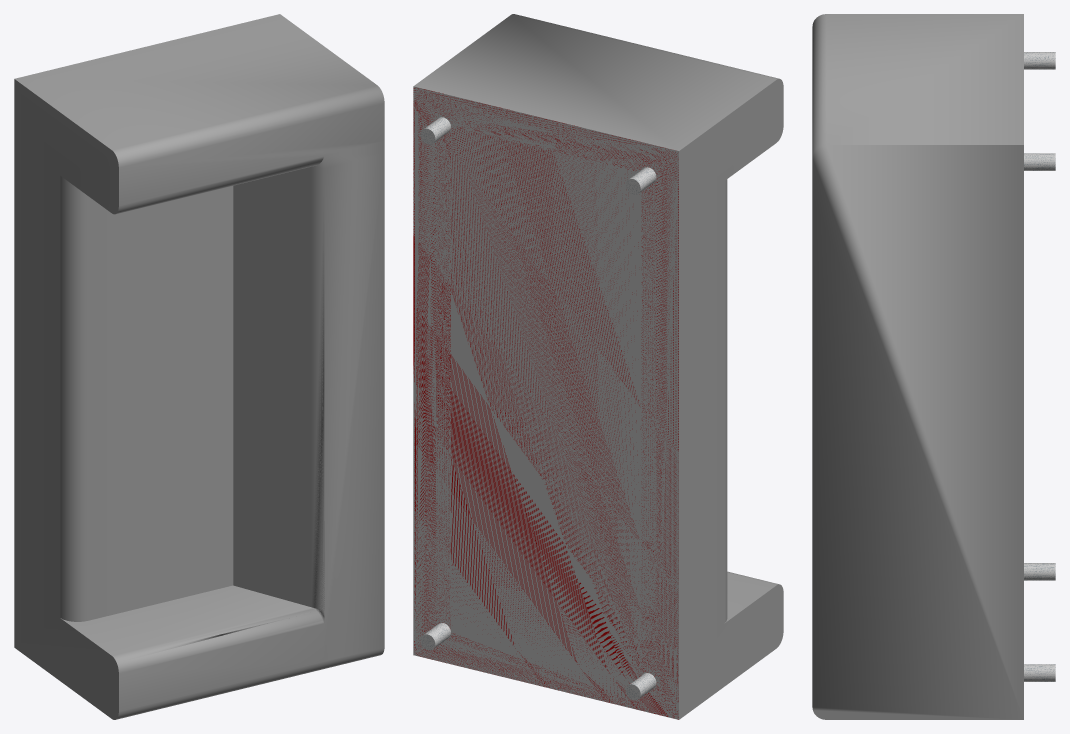
File: sofa.obj
3 renders of one model, left to right at view 1: azimuth 30°, elevation 25°; view 2: azimuth 150°, elevation 25°; view 3: azimuth 270°, elevation 25°, orthographic.
Visible parts, largest first — view 1: sofa.001; view 2: sofa.001; view 3: sofa.001.
Boxes of the visible parts, x1,y1,x2,y2 form: sofa.001: (14,14,384,719); sofa.001: (413,14,783,719); sofa.001: (812,14,1055,719).
Size of the model in its own units: 0.88 by 1.8 by 0.69.
